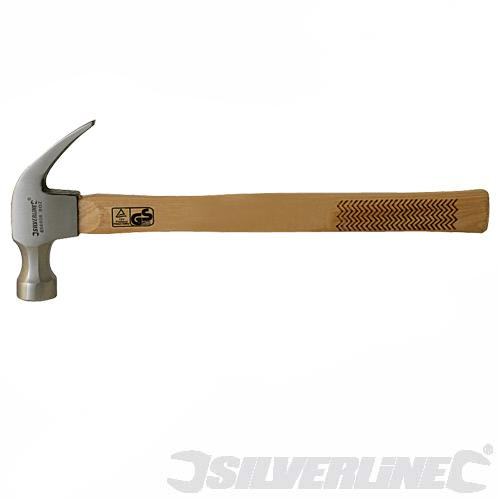hammer: (6, 117, 491, 304)
